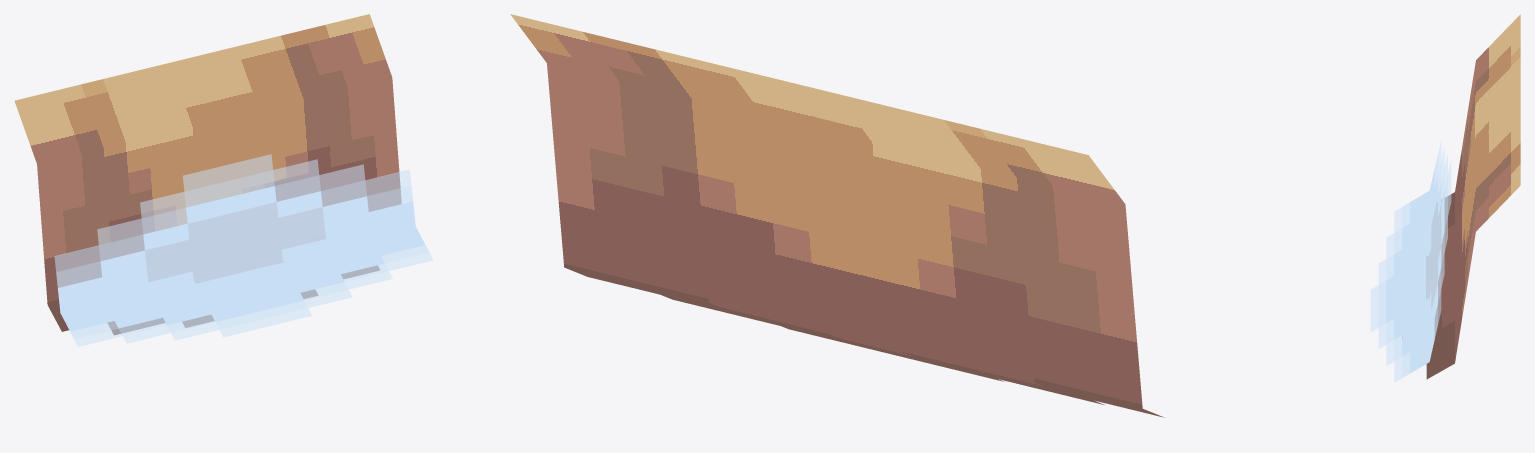
3 views of the same model, side by side, from view 1: azimuth 30°, elevation 25°; view 2: azimuth 150°, elevation 25°; view 3: azimuth 270°, elevation 25° (orthographic). The views are drawn at different scales.
Size of the model in its own units: 1 by 0.6892 by 0.5459.
2 materials, 2 textured.
